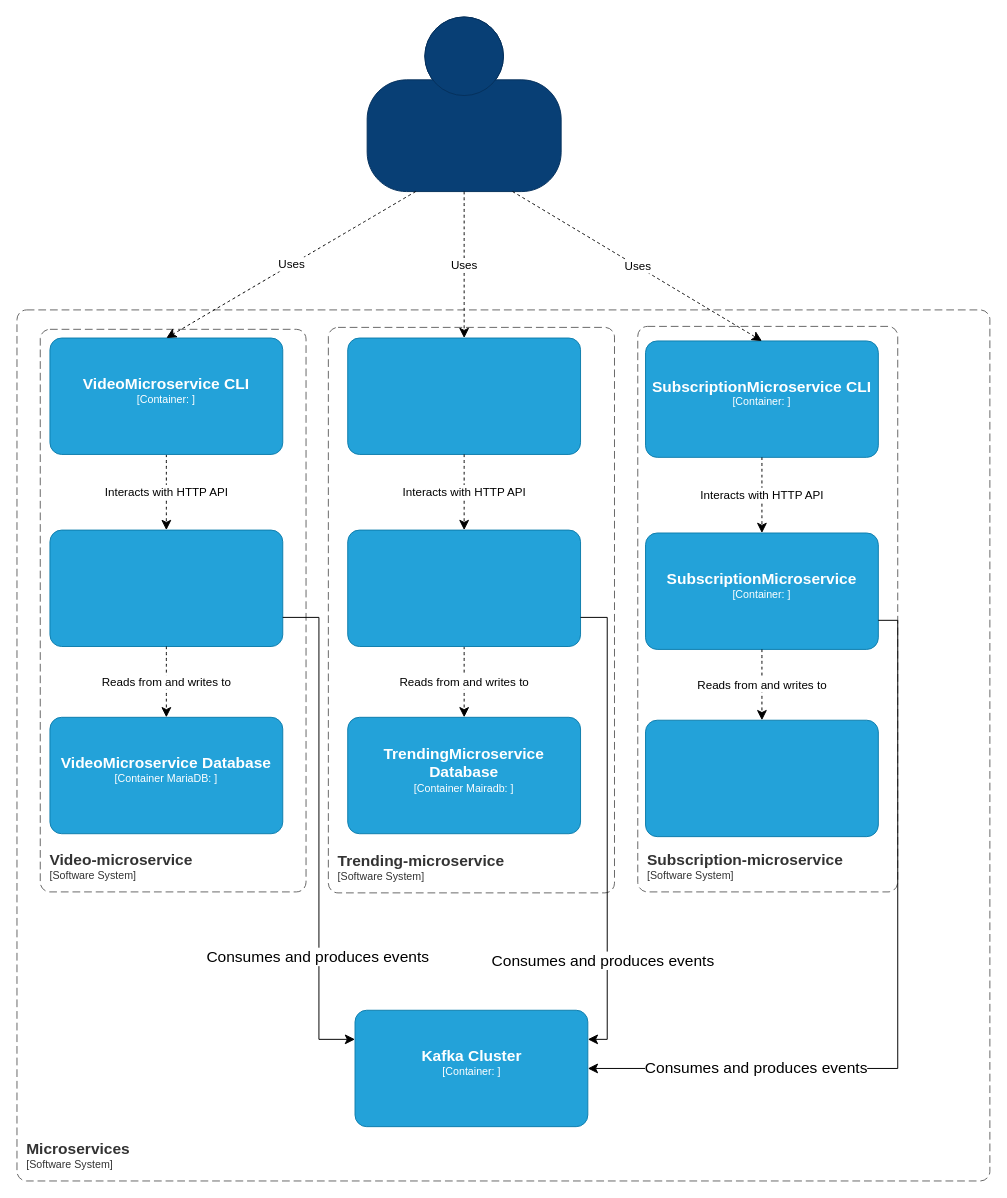
The diagram is 1007 pixels wide and 1198 high, and some of its shapes have lost their labels. The centre of each missing label's shape, as x and y in pixels:
"Person [Person]" belongs at point (463, 104).
"SubscriptionMicroservice Database [Container Mariadb: ]" belongs at point (761, 778).
"TrendingMicroservice [Container: ]" belongs at point (464, 588).
"TrendingMicroservice CLI [Container: ]" belongs at point (464, 395).
"VideoMicroservice [Container: ]" belongs at point (166, 588).
